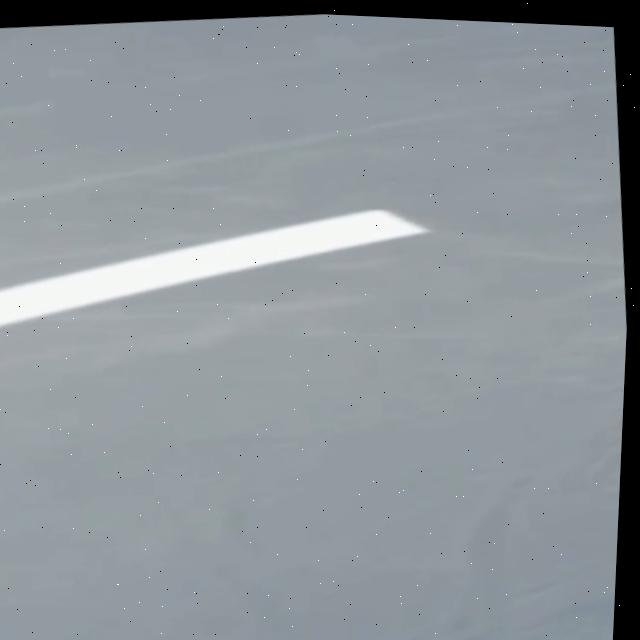center: (0, 209, 429, 326)
